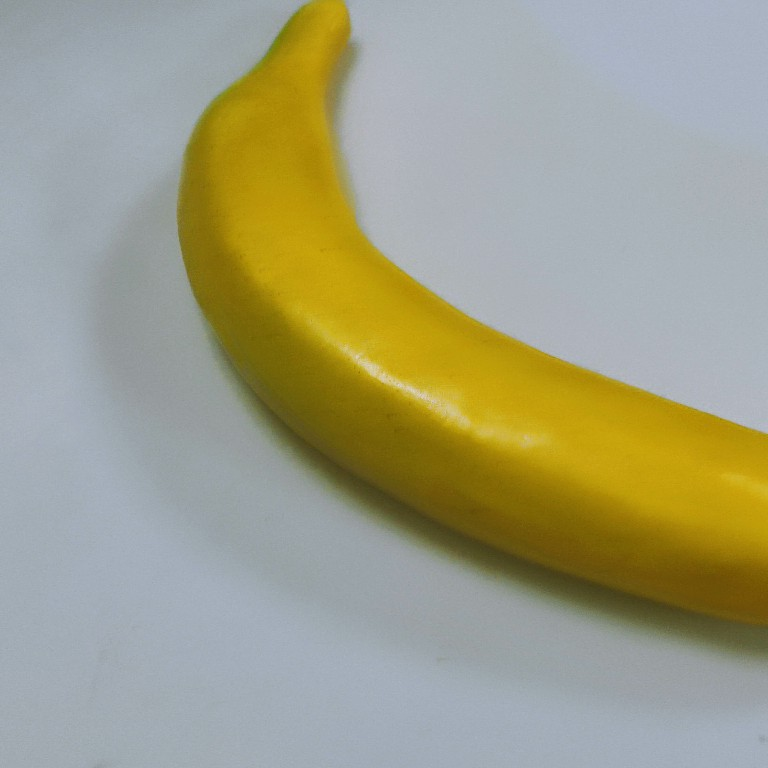fruit_banana: (171, 1, 768, 638)
